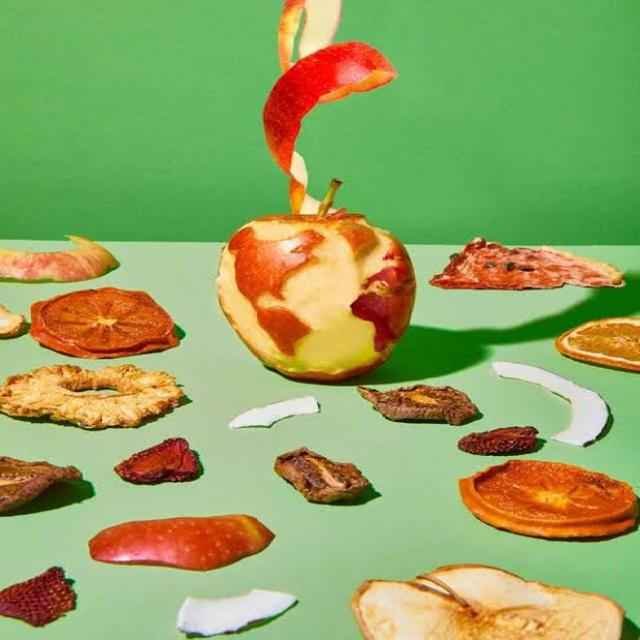food waste: (184, 0, 436, 391)
